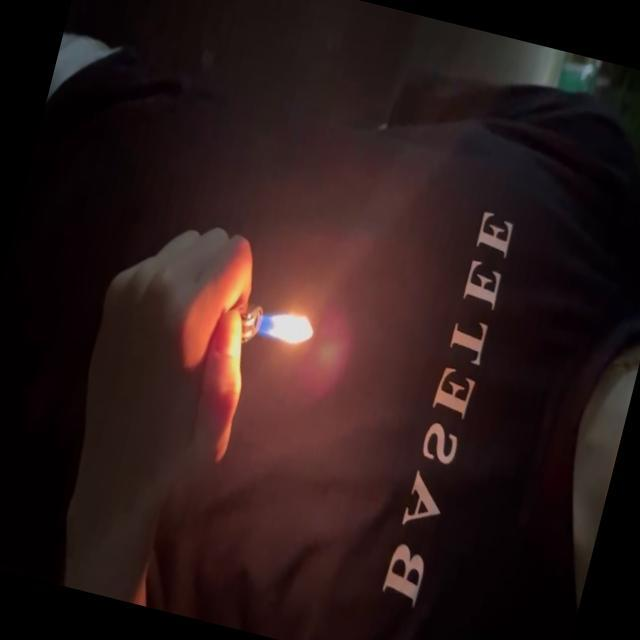Fire: (249, 301, 321, 355)
